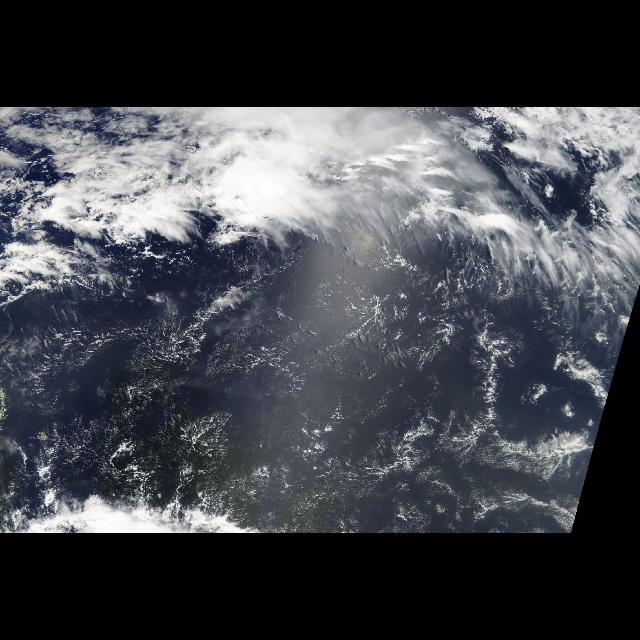Sugar: (4, 314, 596, 524)
